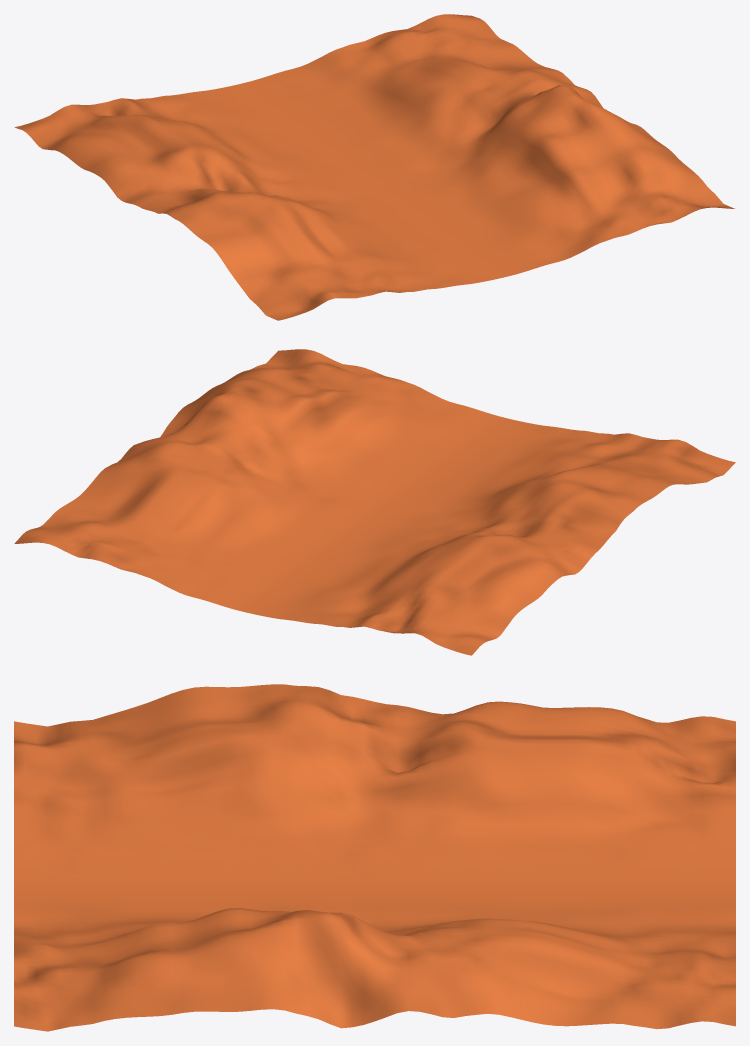
The model's file is GroundTile_3.fbx.
The picture shows the model from 3 angles, top to bottom: view 1: azimuth 30°, elevation 25°; view 2: azimuth 150°, elevation 25°; view 3: azimuth 270°, elevation 25°; orthographic projection. The views are drawn at different scales.
Visible parts, largest first — view 1: GroundTile_3; view 2: GroundTile_3; view 3: GroundTile_3.
Boxes of the visible parts, x1,y1,x2,y2 form: GroundTile_3: [14, 14, 734, 320]; GroundTile_3: [14, 349, 735, 655]; GroundTile_3: [14, 684, 735, 1031].
Bounding box in the file's own units: 200 × 26.72 × 200.
